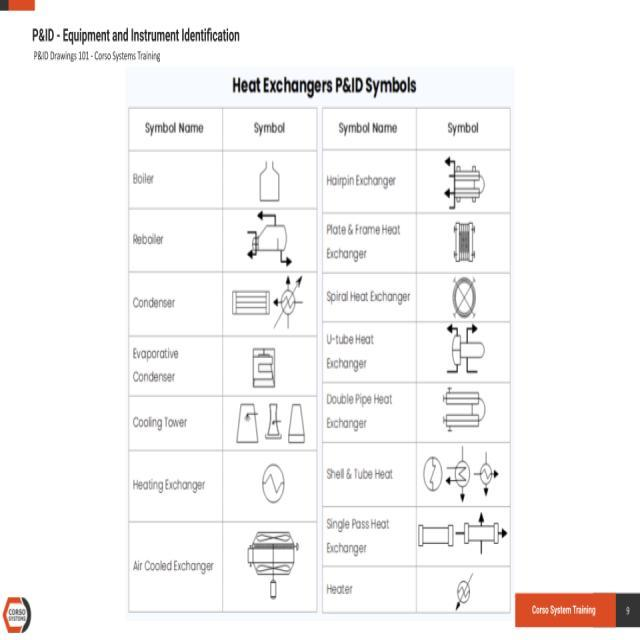bolier: (252, 155, 286, 209)
